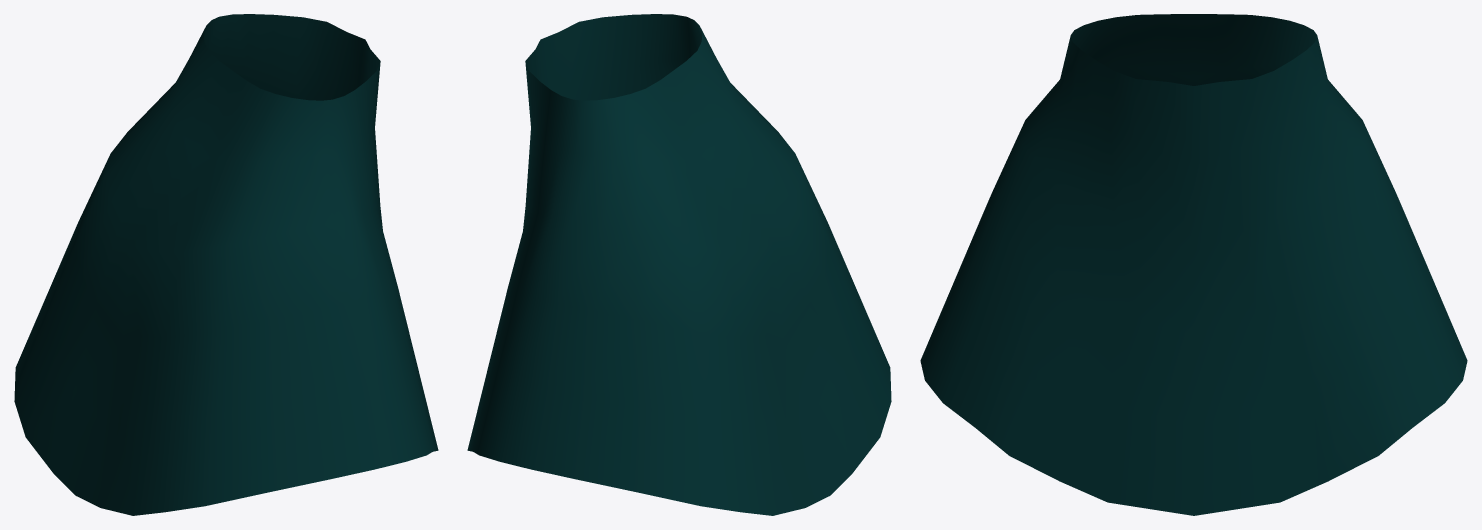
Rendered from tREEmcSkirtTest.fbx.
3 views of the same model, side by side, from view 1: azimuth 30°, elevation 25°; view 2: azimuth 150°, elevation 25°; view 3: azimuth 270°, elevation 25° (orthographic). The views are drawn at different scales.
Visible parts, largest first — view 1: Cube.033; view 2: Cube.033; view 3: Cube.033.
Part boxes in pixels (bbox=[...]): Cube.033: bbox=[14, 14, 438, 515]; Cube.033: bbox=[467, 14, 891, 515]; Cube.033: bbox=[920, 14, 1467, 515].
Size of the model in its own units: 219 by 269 by 314.
